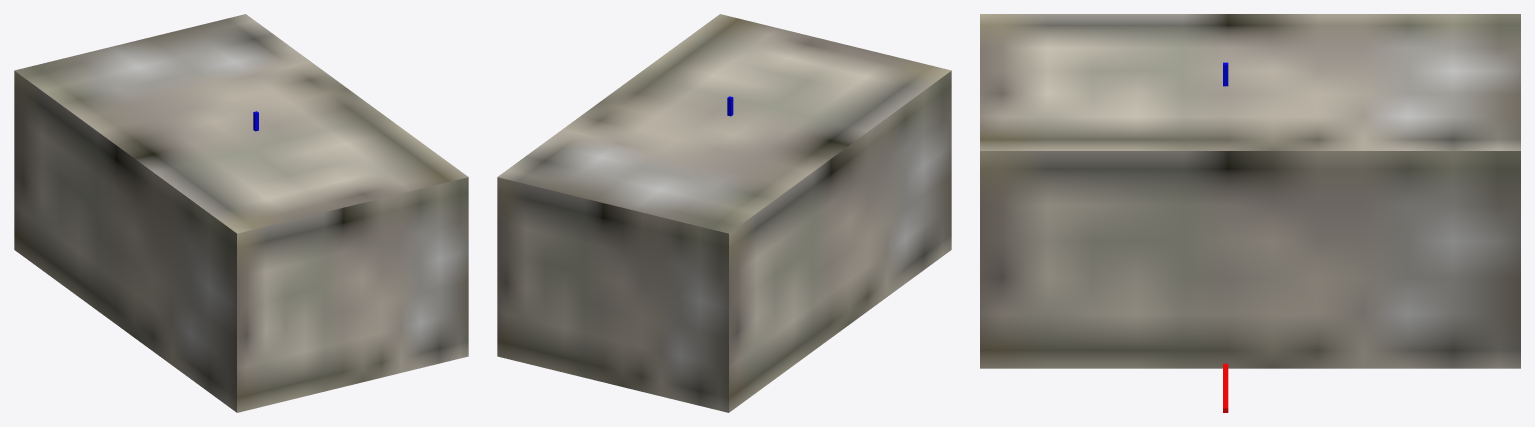
File: small-brick.glb
The picture shows the model from 3 angles, left to right: view 1: azimuth 30°, elevation 25°; view 2: azimuth 150°, elevation 25°; view 3: azimuth 270°, elevation 25°; orthographic projection. The views are drawn at different scales.
Parts seen in each view (by area): view 1: building construction g small brickModel; view 2: building construction g small brickModel; view 3: building construction g small brickModel.
Boxes of the visible parts, left/top/right/bottom form: building construction g small brickModel: left=14, top=14, right=468, bottom=412; building construction g small brickModel: left=497, top=14, right=951, bottom=412; building construction g small brickModel: left=980, top=14, right=1520, bottom=368.
Size of the model in its own units: 0.4072 by 0.25 by 0.5127.
2 materials, 1 textured.
